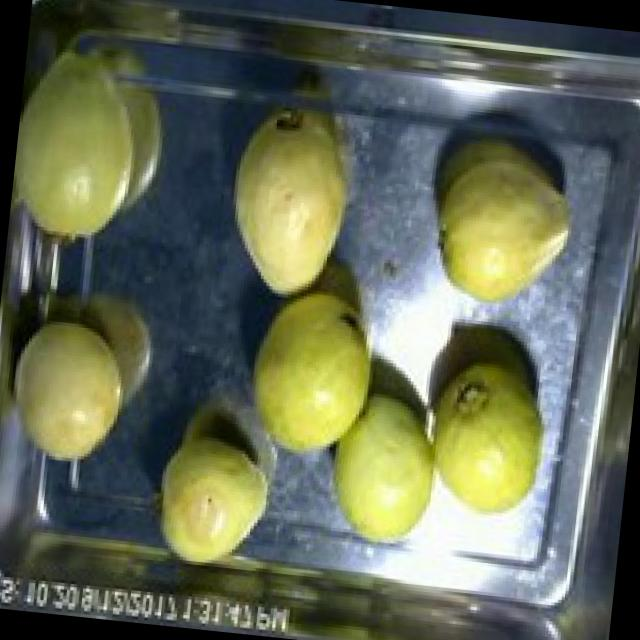Fruit: (390, 304, 584, 554), (6, 36, 190, 266), (412, 113, 598, 327), (210, 92, 372, 311), (231, 274, 397, 477), (308, 369, 468, 572), (0, 300, 144, 480), (136, 422, 288, 576)
